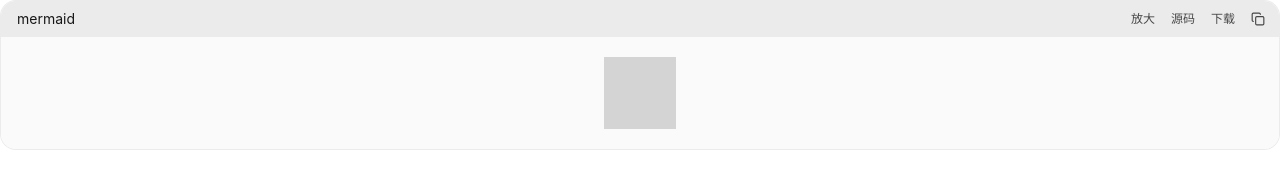
Scenario: Mermaid 图表预览 › 桌面端下载打开原生保存对话框，并显示实际保存结果
Click the button "下载" at {"x": 1223, "y": 19}, box [1205,7,1241,31]
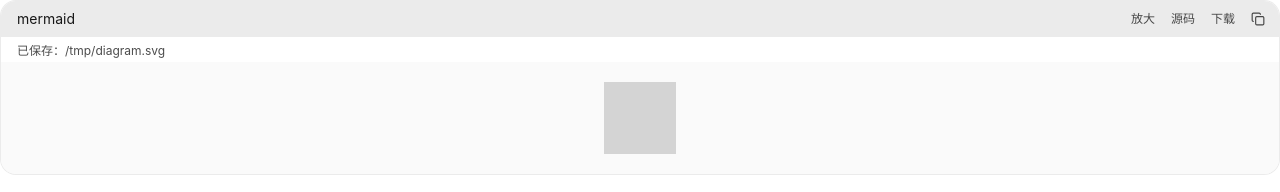
Check: the message reads "已保存：/tmp/diagram.svg", box [17,43,165,58]
